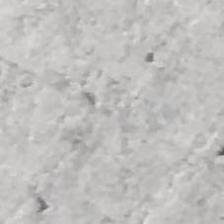Non_Crack: (14, 13, 214, 224)
